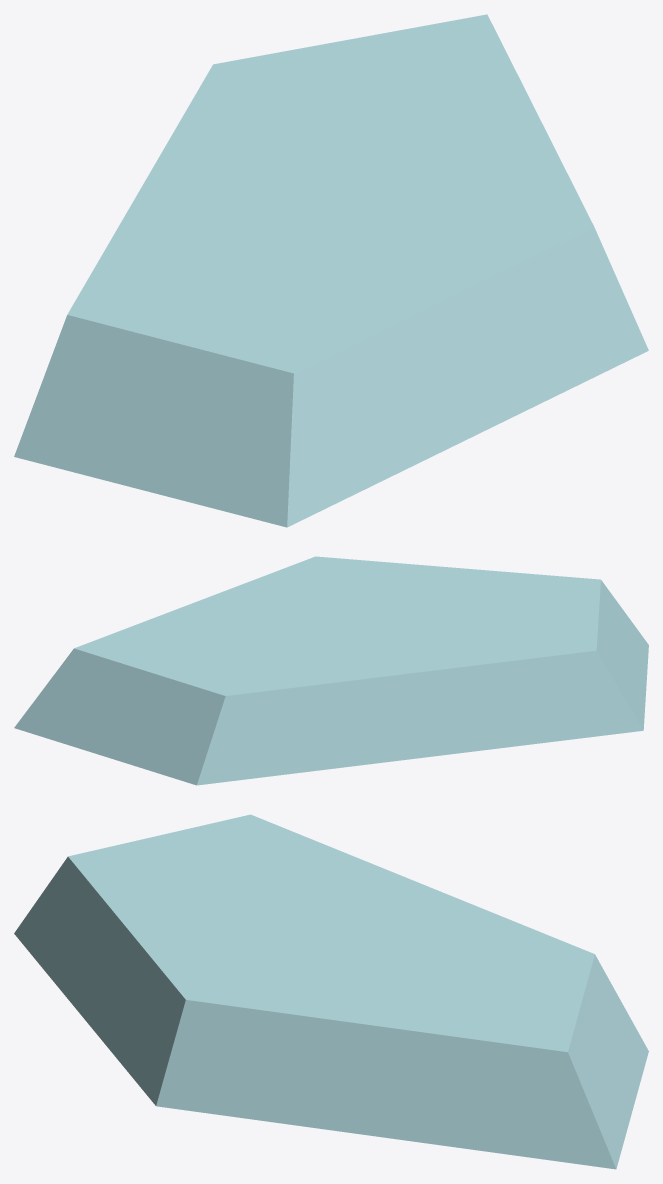
Rendered from stone_smallFlatB.dae.
3 views of the same model, one above another, from view 1: azimuth 30°, elevation 25°; view 2: azimuth 150°, elevation 25°; view 3: azimuth 270°, elevation 25° (orthographic). The views are drawn at different scales.
Parts seen in each view (by area): view 1: stone_smallFlatB; view 2: stone_smallFlatB; view 3: stone_smallFlatB.
Boxes of the visible parts, x1,y1,x2,y2 form: stone_smallFlatB: [14, 14, 648, 527]; stone_smallFlatB: [14, 556, 648, 785]; stone_smallFlatB: [14, 814, 648, 1169].
Size of the model in its own units: 0.4295 by 0.0649 by 0.4024.
